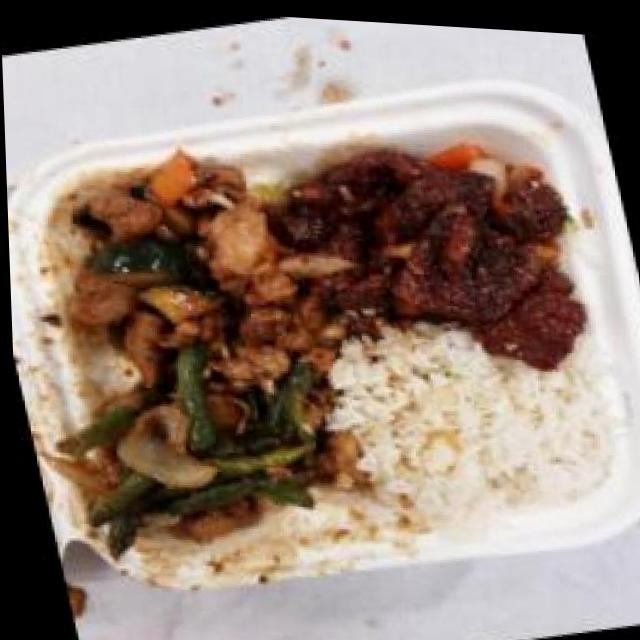Beijing Beef: (275, 95, 604, 408)
Kung Pao Chicken: (34, 124, 342, 413)
String Bean Chicken Breast: (43, 330, 359, 567)
White Steamed Rice: (324, 315, 623, 553)
